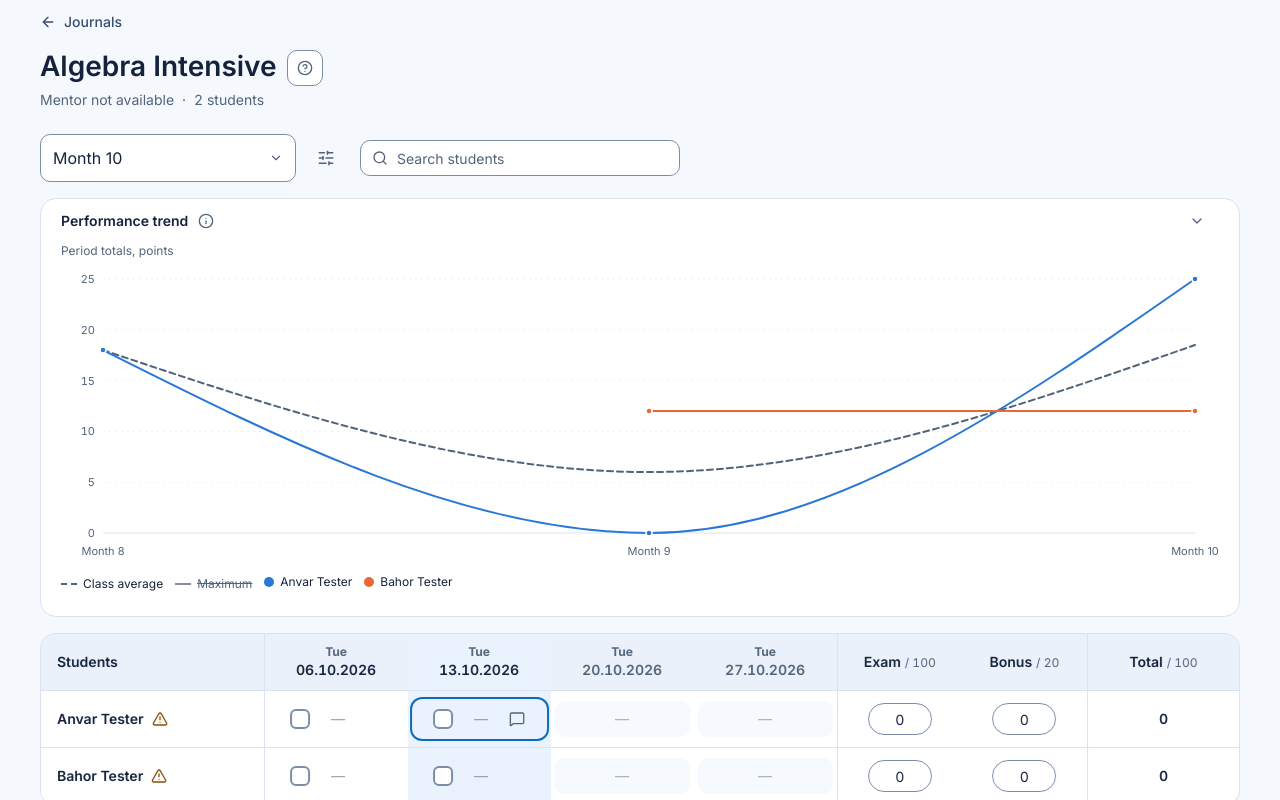
Period settings: exam maximum › sends nothing and keeps the draft with Retry when the drain fails
The width and height of the screenshot is (1280, 800).
Press 4 in the 2nd element showing "—", box [412, 699, 546, 739]
(page scrolled)
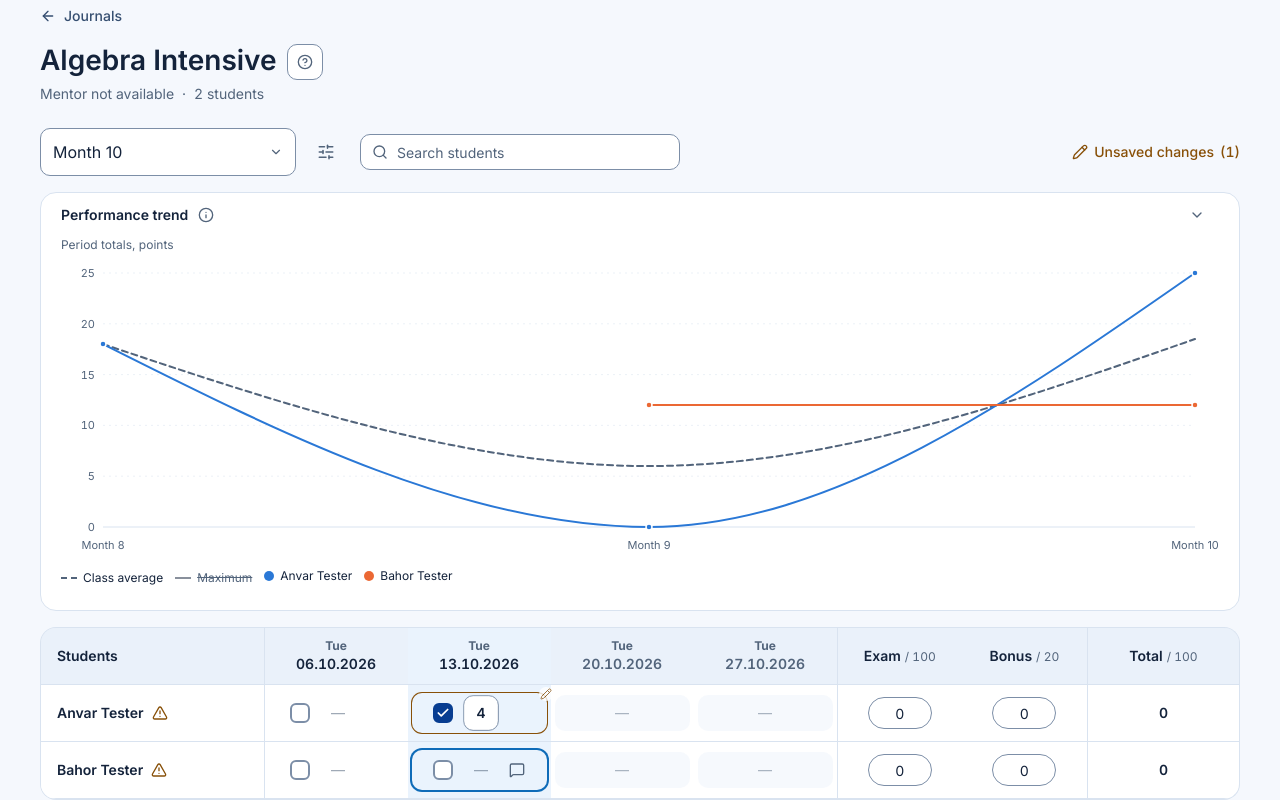
Click the button named "Period settings".
click(326, 152)  # box [304, 130, 348, 174]
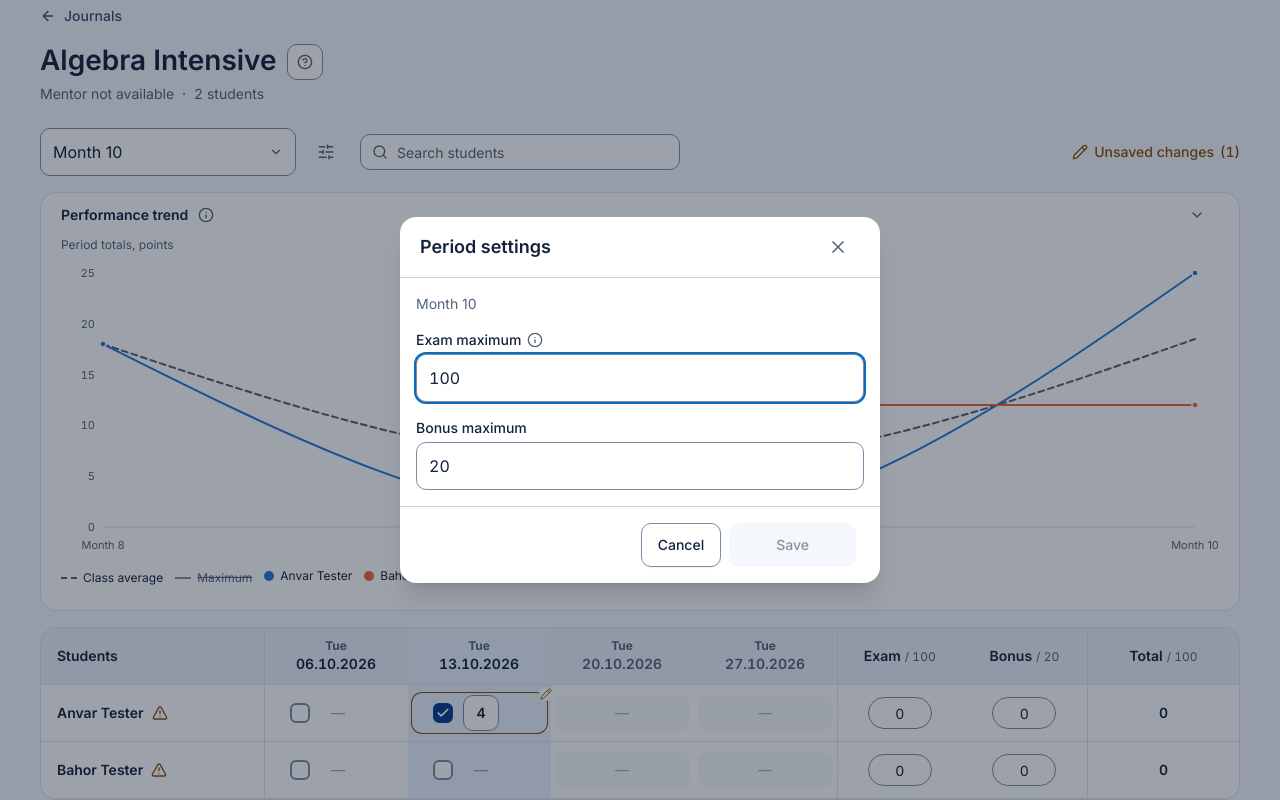
Check: the dialog "Period settings" is shown, box [400, 217, 880, 583]
Replace the text in the field labelled "Exam maximum" with "80" at [640, 378], box [416, 354, 864, 402]
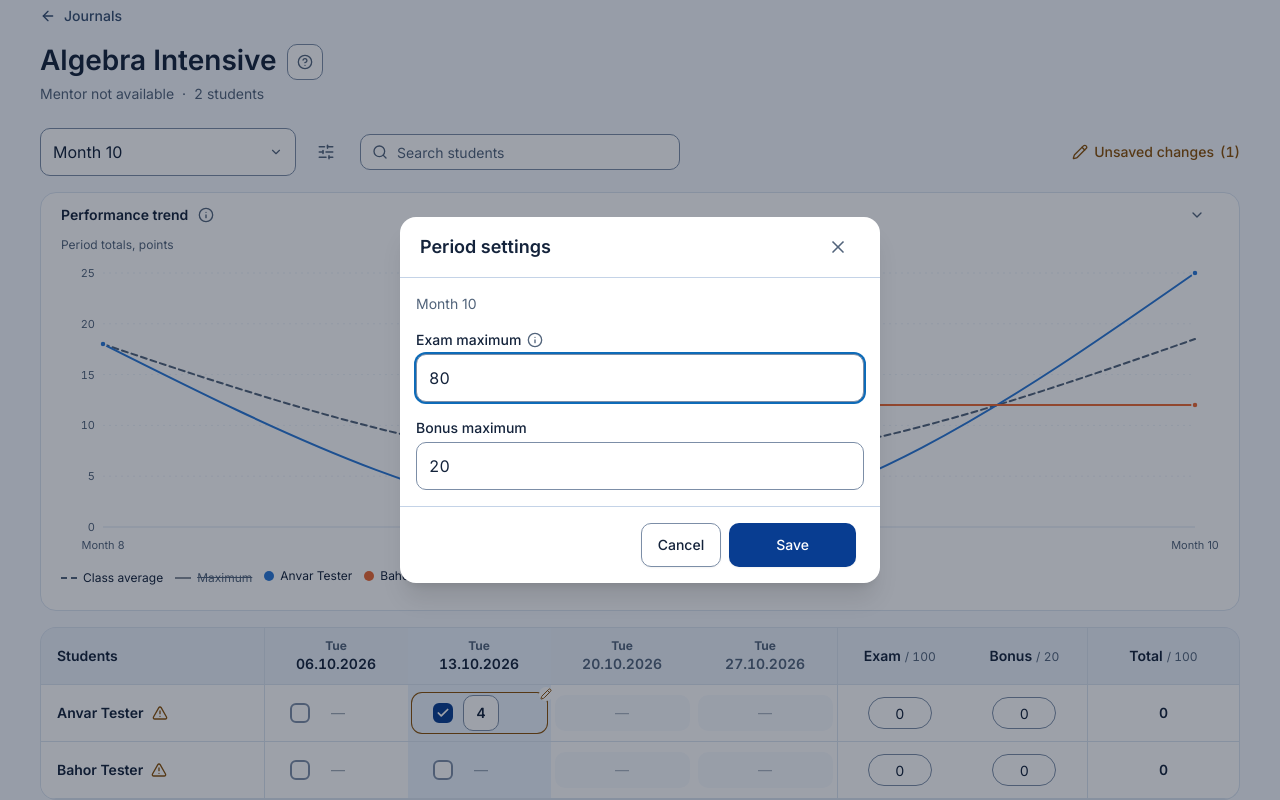
Click the button "Save".
click(793, 545)  # box [729, 523, 856, 567]
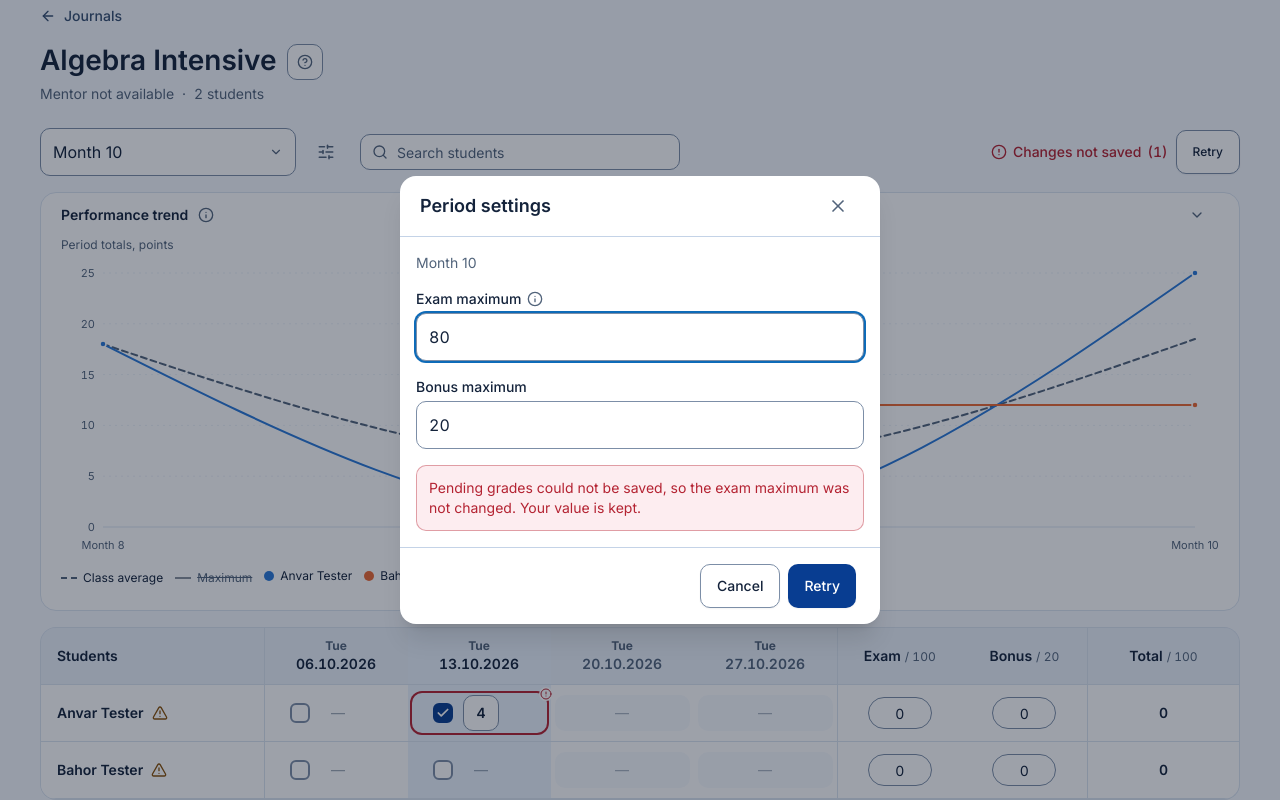
Check: the dialog "Period settings" shows "Month 10", box [416, 254, 477, 271]
Check: the message with test id "period-settings-alert" shows "exam maximum was not changed", box [429, 479, 850, 516]
Check: the button "Retry" is shown, box [788, 564, 856, 608]
